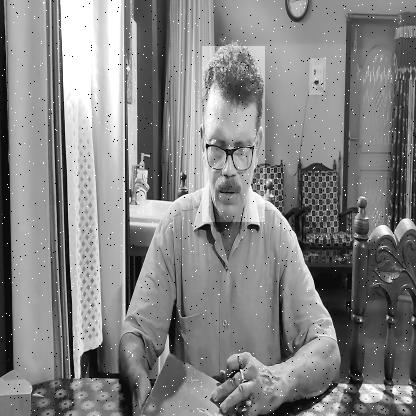Normal: (202, 46, 265, 222)
